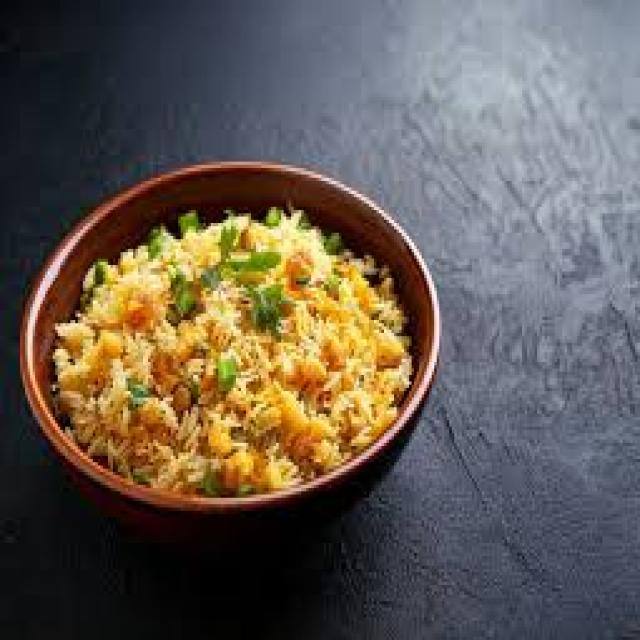UPMA: (48, 204, 412, 491)
